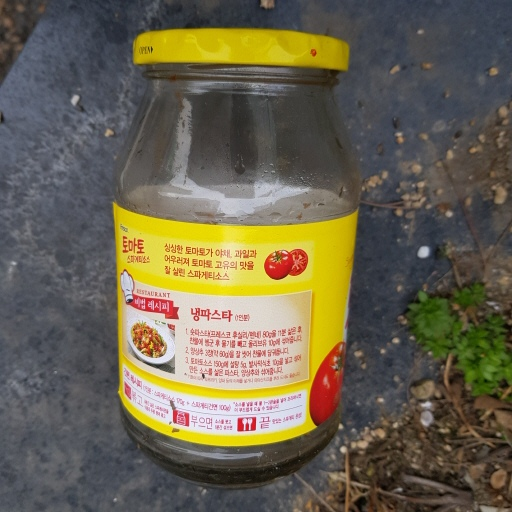Glass_5: (104, 25, 360, 487)
